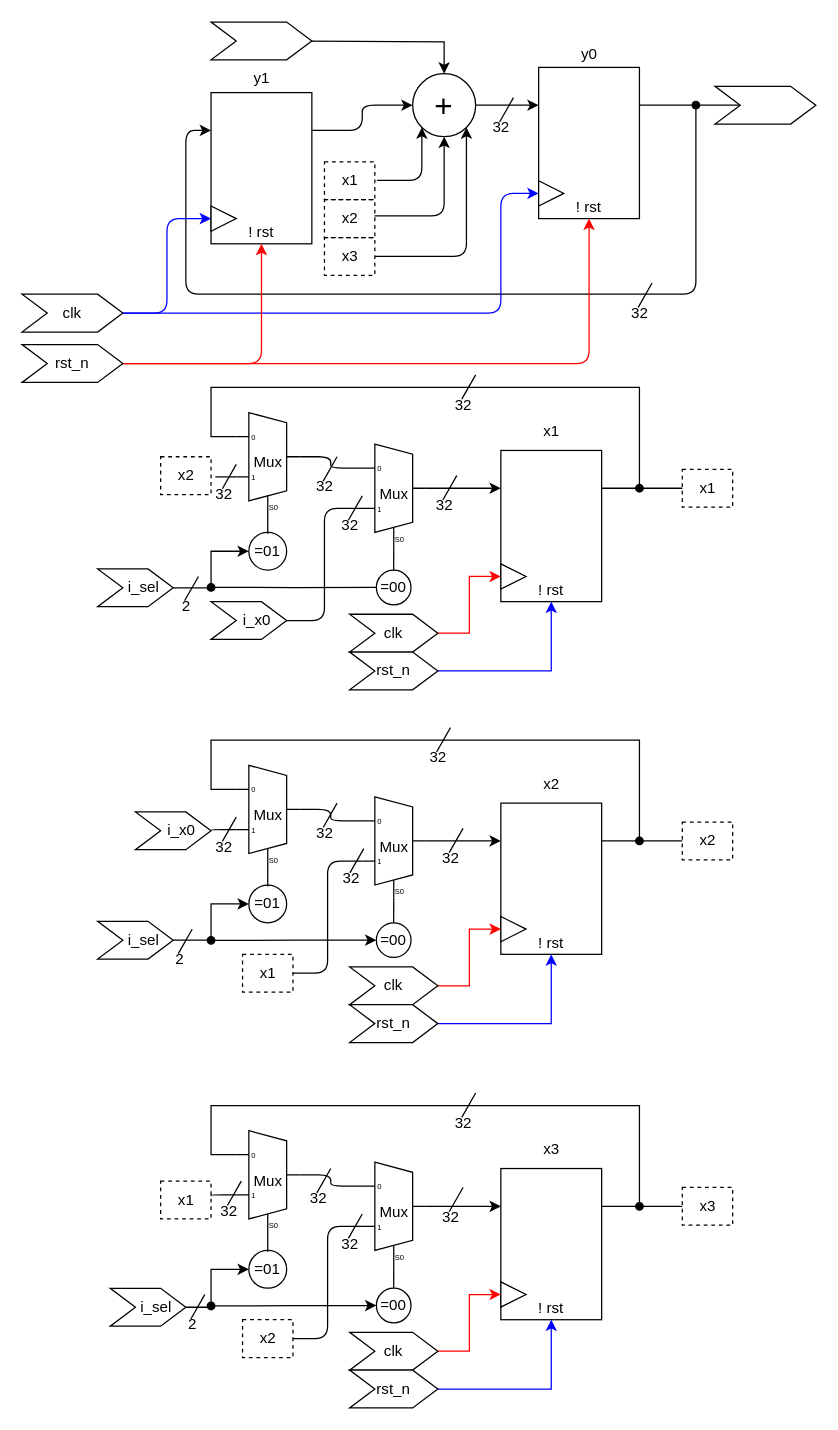
Some shapes in this 838 by 1430 pixel diagram are drawn without their labels. The centre of each missing label's shape, as x and y in pixels:
o_x0: the point at 261,40
o_y0: the point at 765,104
